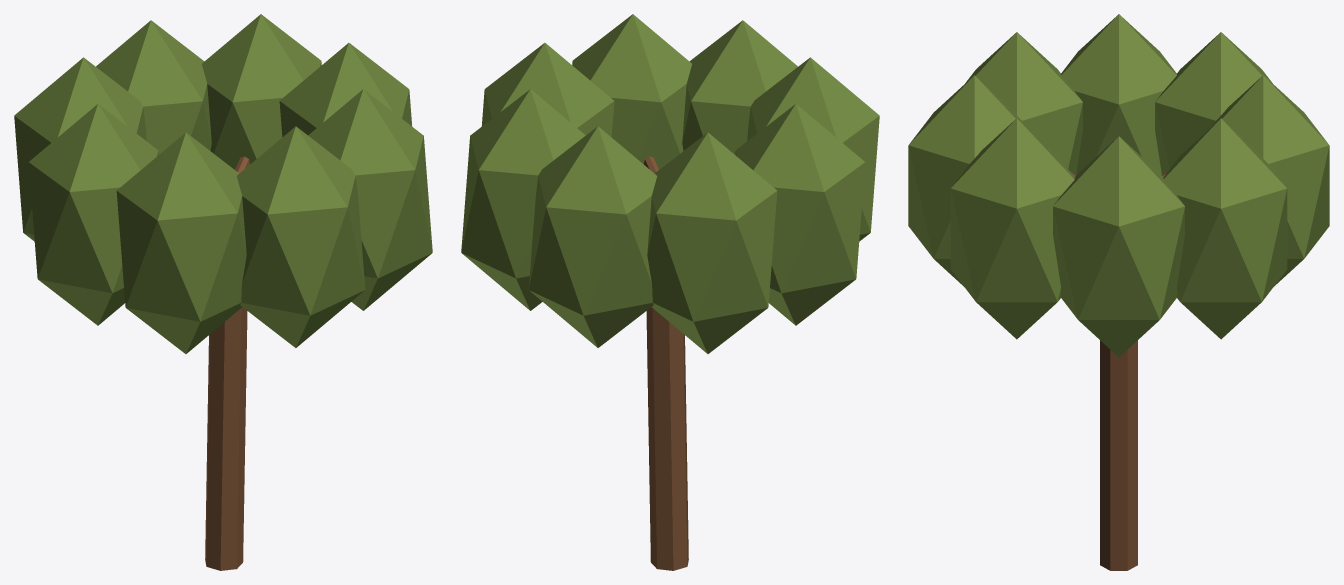
The model's file is tree_11.glb.
3 renders of one model, left to right at view 1: azimuth 30°, elevation 25°; view 2: azimuth 150°, elevation 25°; view 3: azimuth 270°, elevation 25°, orthographic.
Visible parts, largest first — view 1: tree_11; view 2: tree_11; view 3: tree_11.
Part boxes in pixels (bbox=[...]): tree_11: bbox=[14, 14, 432, 570]; tree_11: bbox=[461, 14, 879, 570]; tree_11: bbox=[908, 14, 1329, 570].
Bounding box in the file's own units: 5.01 × 6.31 × 4.93.
